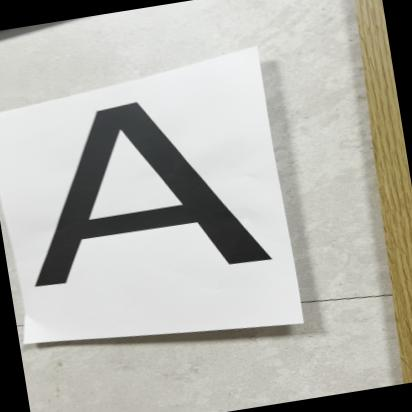seat: (1, 71, 284, 306), (0, 83, 251, 314)
